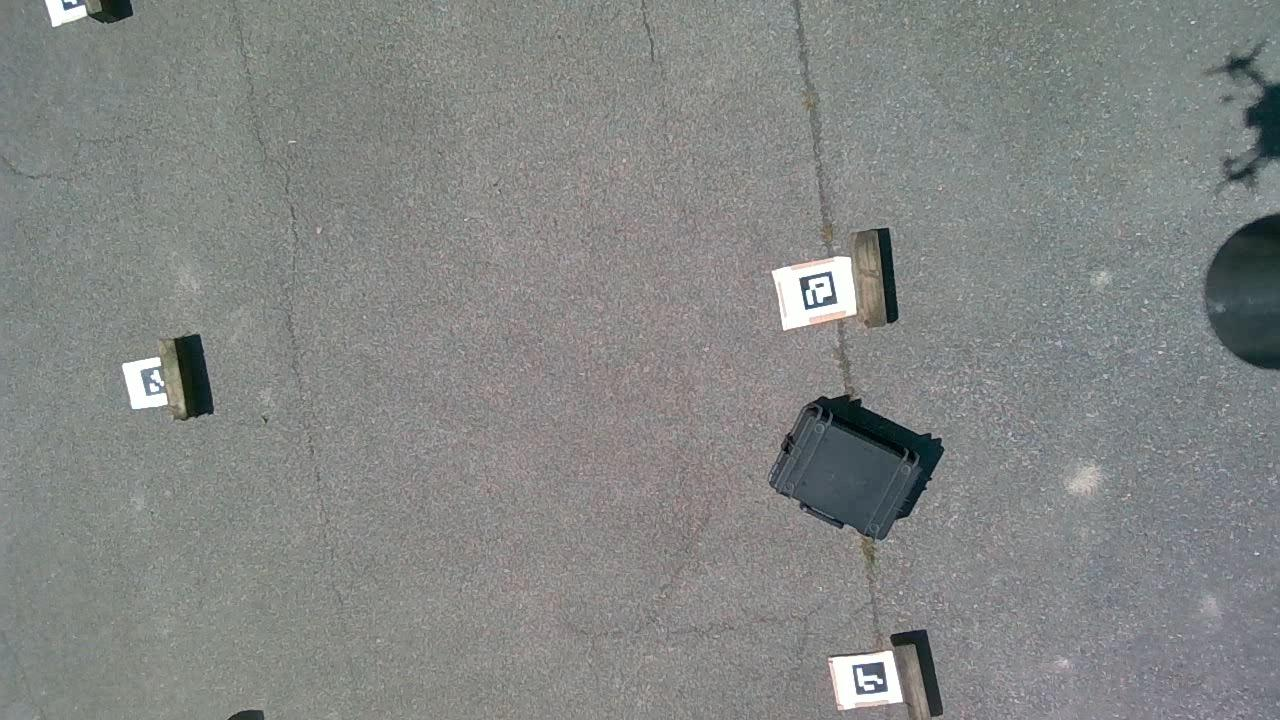rako: (764, 394, 932, 543)
